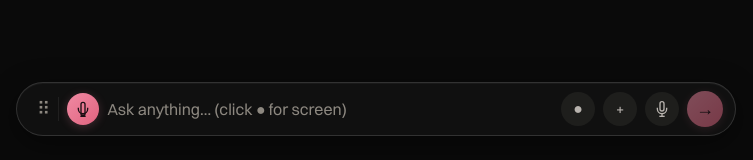
Test: OverlayAssistant › clears the input after a successful answer, so the next question starts clean
The image size is (753, 160).
Step 1. Type "hello" into the field with placeholder "Ask anything... (click ● for screen)" → (330, 109), box [107,94,553,124]
Then press Enter
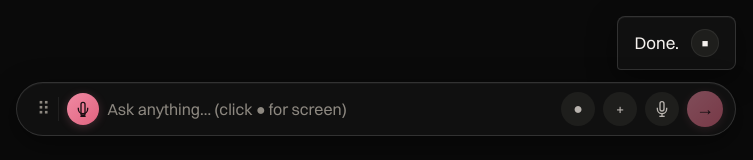
Now the text "Done." is shown, box [634,29,679,56]
